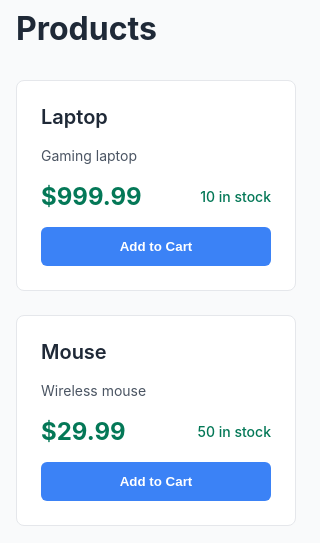
Test: Home Advanced Tests › Add to Cart Error Scenarios › shows error when add to cart fails with unknown error
This screenshot has width=320, height=543.
Expected: the heading "Laptop" is shown, [41,104,108,128]
Click the button "Add to Cart" below "999.99" at x=156, y=246, box [41,226,271,266]
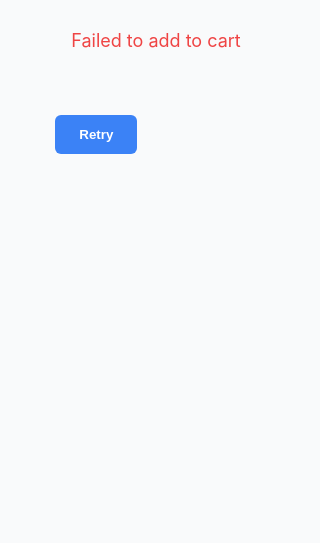
Now the text "Failed to add to cart" is shown, box [71,30,241,51]
